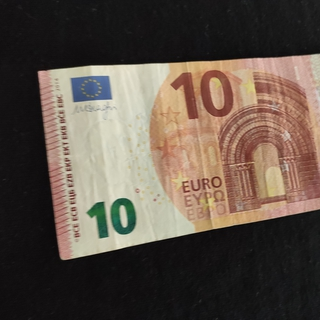10EUROFront: (36, 52, 320, 259)
